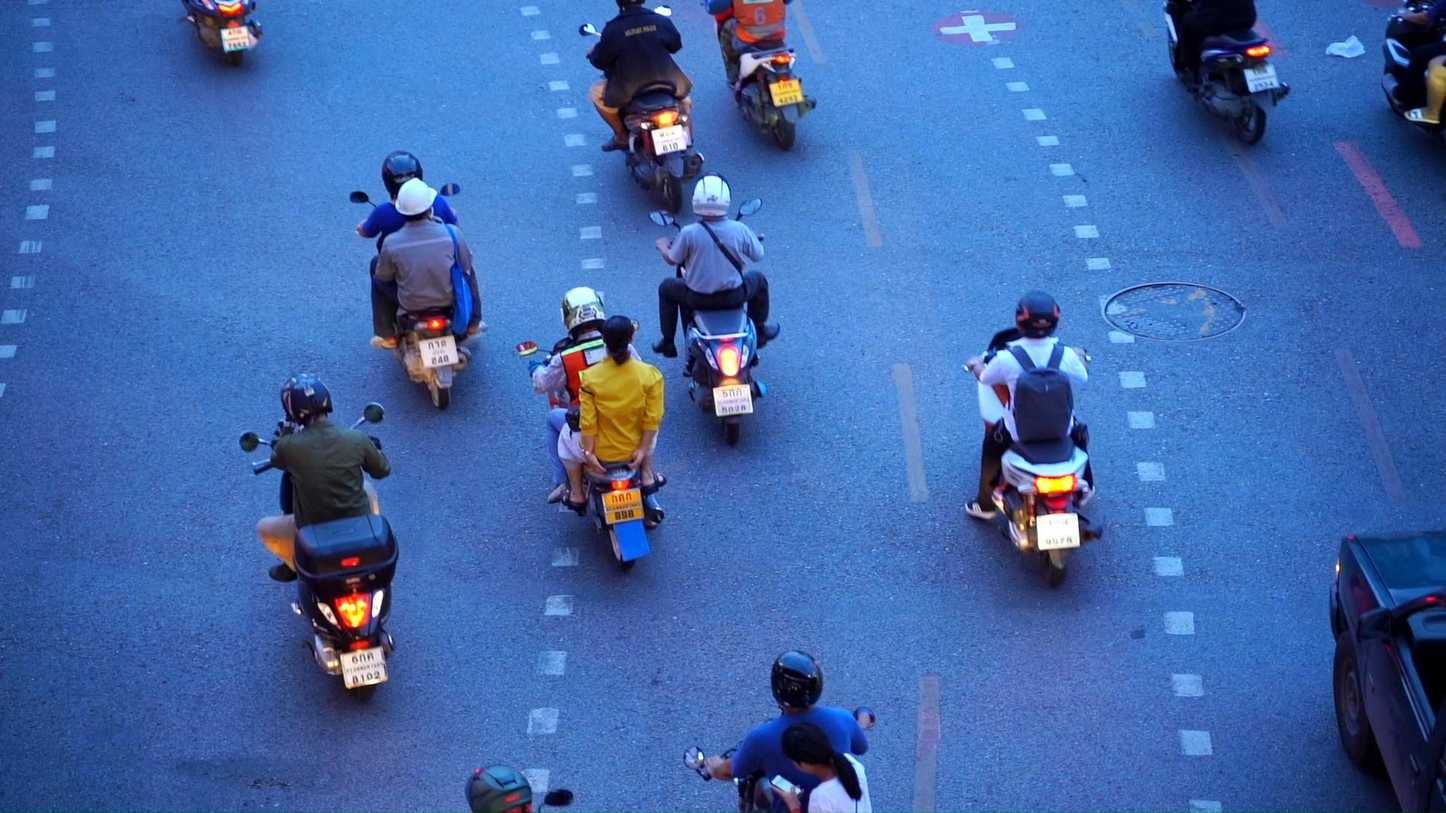driver: (239, 373, 399, 703), (515, 286, 666, 573), (962, 292, 1102, 588), (648, 170, 780, 446), (350, 150, 490, 409), (684, 650, 875, 813), (579, 0, 705, 214), (1162, 0, 1290, 145), (700, 0, 817, 151), (1380, 0, 1446, 141)
helmet: (771, 651, 823, 716), (465, 764, 532, 813), (280, 373, 333, 426), (560, 286, 606, 337), (1015, 292, 1061, 339), (381, 151, 423, 201), (692, 170, 732, 218), (395, 178, 438, 222)
no-helmet: (782, 721, 859, 774), (601, 315, 635, 365)
